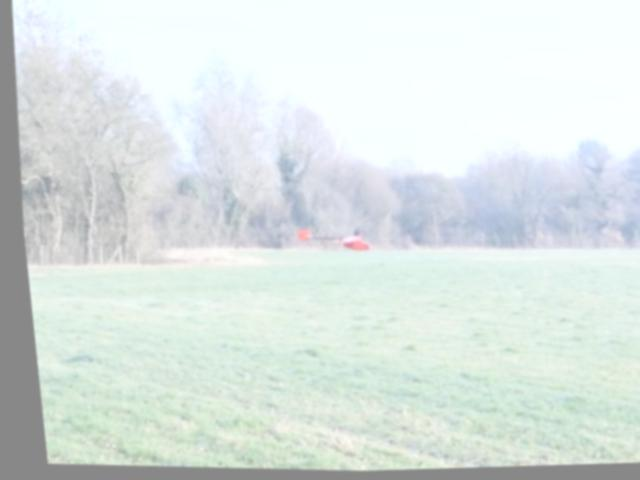uav: (288, 226, 370, 259)
